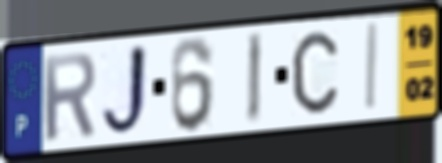6: (169, 34, 217, 135)
C: (289, 28, 340, 117)
I: (244, 29, 265, 127), (363, 19, 381, 114)
J: (98, 41, 152, 141)
R: (40, 49, 99, 145)
